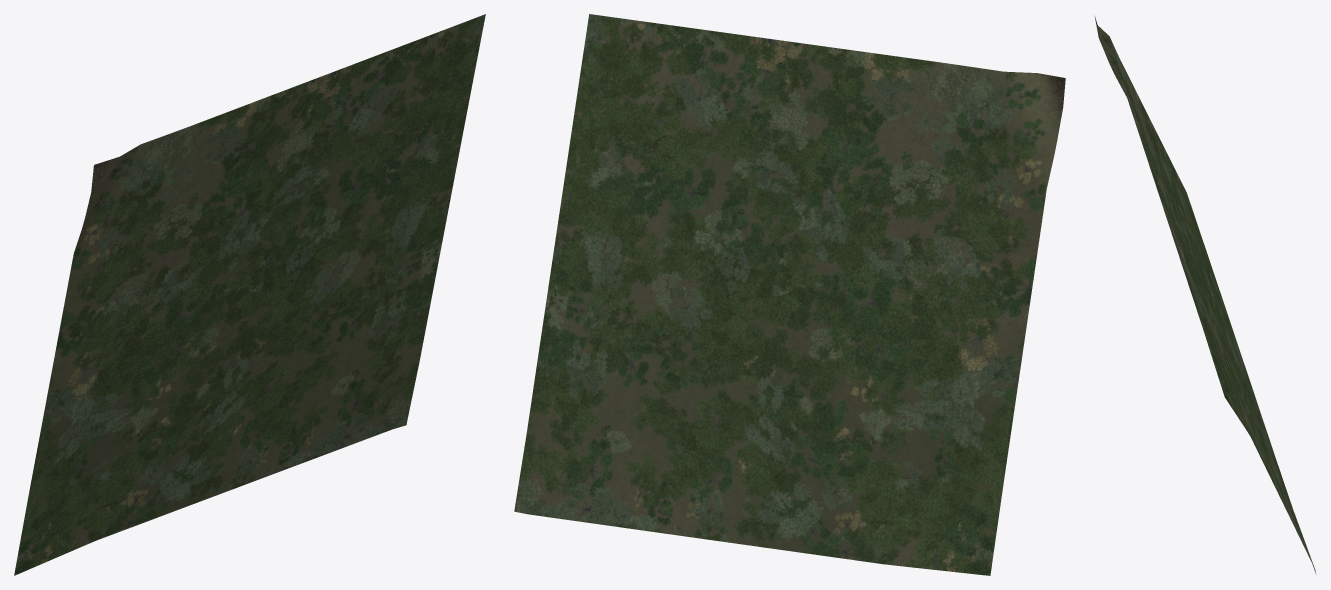
File: terrain_core_07_07.obj
The picture shows the model from 3 angles, left to right: view 1: azimuth 30°, elevation 25°; view 2: azimuth 150°, elevation 25°; view 3: azimuth 270°, elevation 25°; orthographic projection. The views are drawn at different scales.
Visible parts, largest first — view 1: terrain_core_07_07; view 2: terrain_core_07_07; view 3: terrain_core_07_07.
Part boxes in pixels (box(x1,y1,x2,y2)): terrain_core_07_07: box(14, 14, 485, 575); terrain_core_07_07: box(514, 14, 1065, 575); terrain_core_07_07: box(1094, 16, 1316, 574).
Size of the model in its own units: 32 by 32 by 16.83.
Materials: 1 (1 with a texture image).
